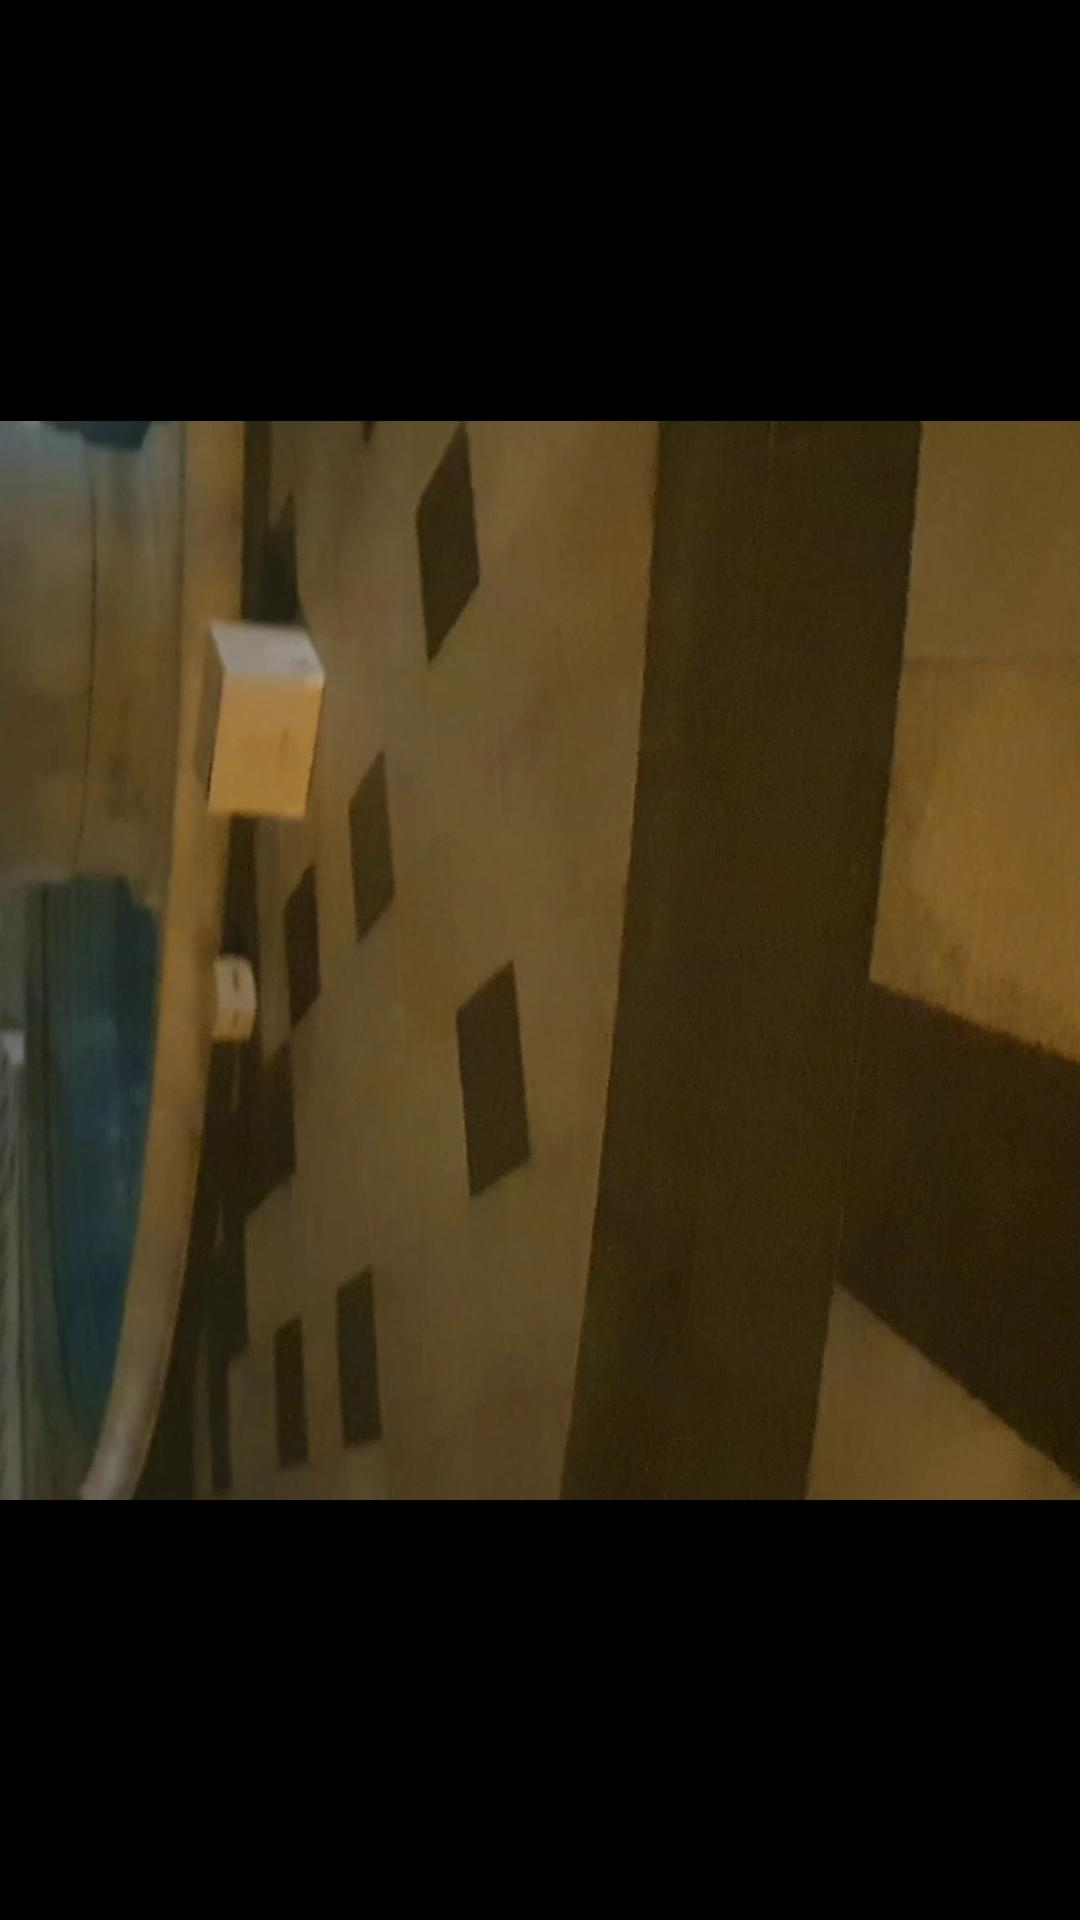Box: (181, 618, 335, 837), (190, 934, 270, 1047)
